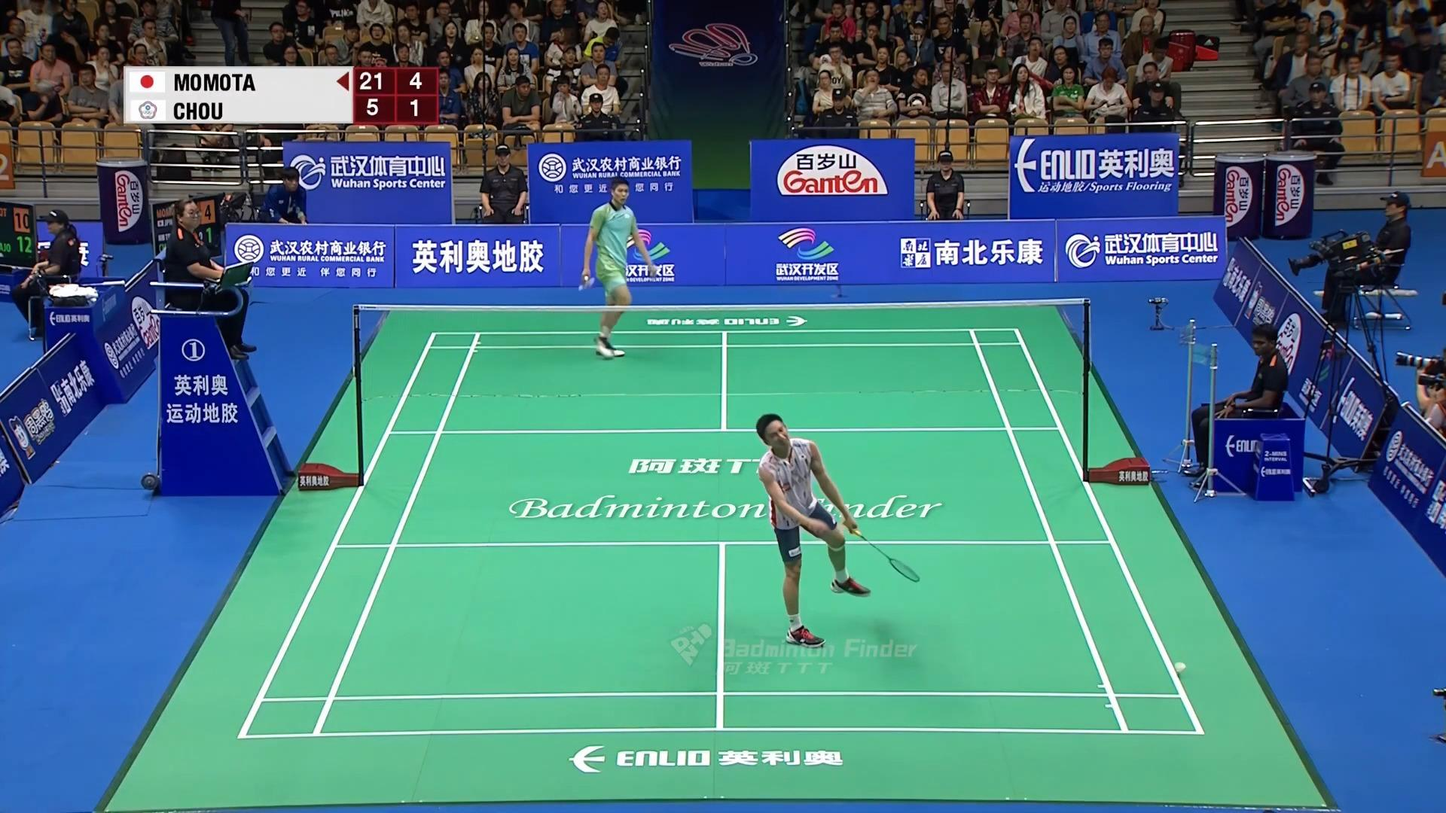player: (755, 413, 871, 647), (581, 177, 658, 360)
shuttlecock: (1176, 662, 1186, 674)
